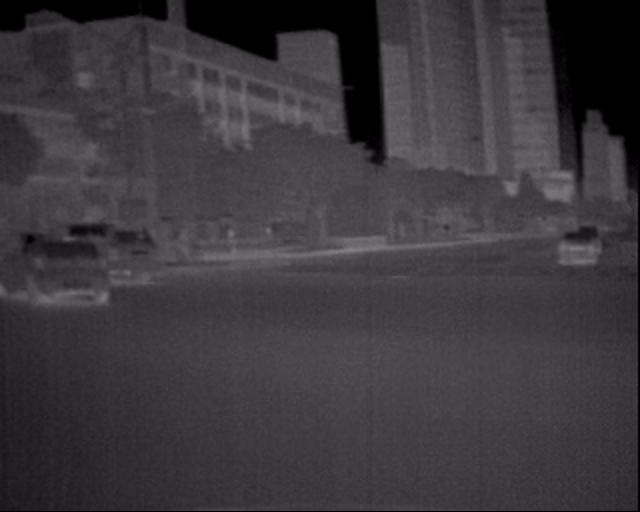person: (267, 220, 295, 272), (231, 231, 258, 276), (188, 229, 211, 277)
